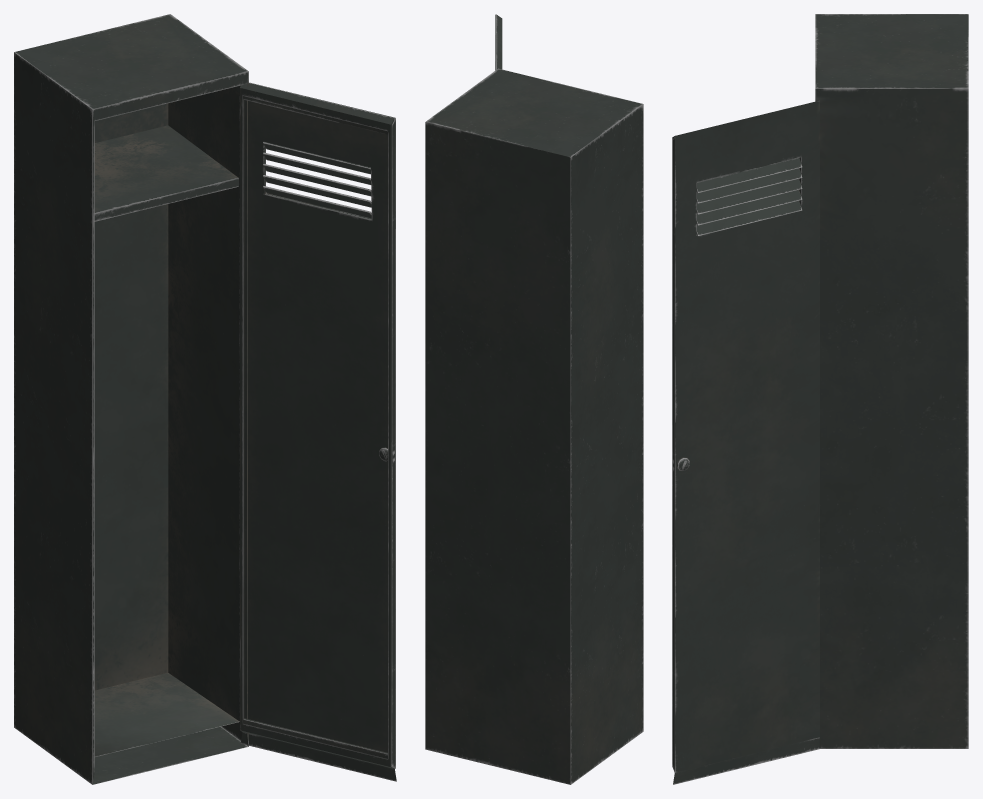
The picture shows the model from 3 angles, left to right: view 1: azimuth 30°, elevation 25°; view 2: azimuth 150°, elevation 25°; view 3: azimuth 270°, elevation 25°; orthographic projection. The views are drawn at different scales.
Visible parts, largest first — view 1: M.C.C, M.C.C porta; view 2: M.C.C, M.C.C porta; view 3: M.C.C, M.C.C porta.
Boxes of the visible parts, bbox=[...] form: M.C.C: bbox=[14, 14, 248, 784]; M.C.C porta: bbox=[240, 82, 396, 781]; M.C.C: bbox=[425, 68, 643, 784]; M.C.C porta: bbox=[495, 14, 502, 70]; M.C.C: bbox=[815, 14, 968, 748]; M.C.C porta: bbox=[672, 100, 819, 784].
Bounding box in the file's own units: 71.21 × 199 × 80.76.
